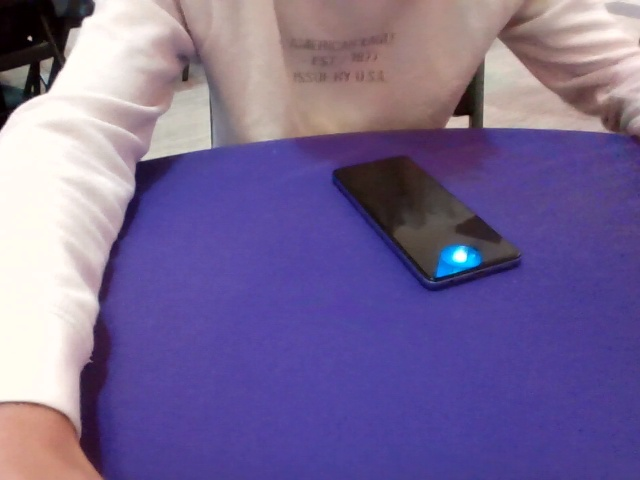celular: (331, 154, 525, 290)
